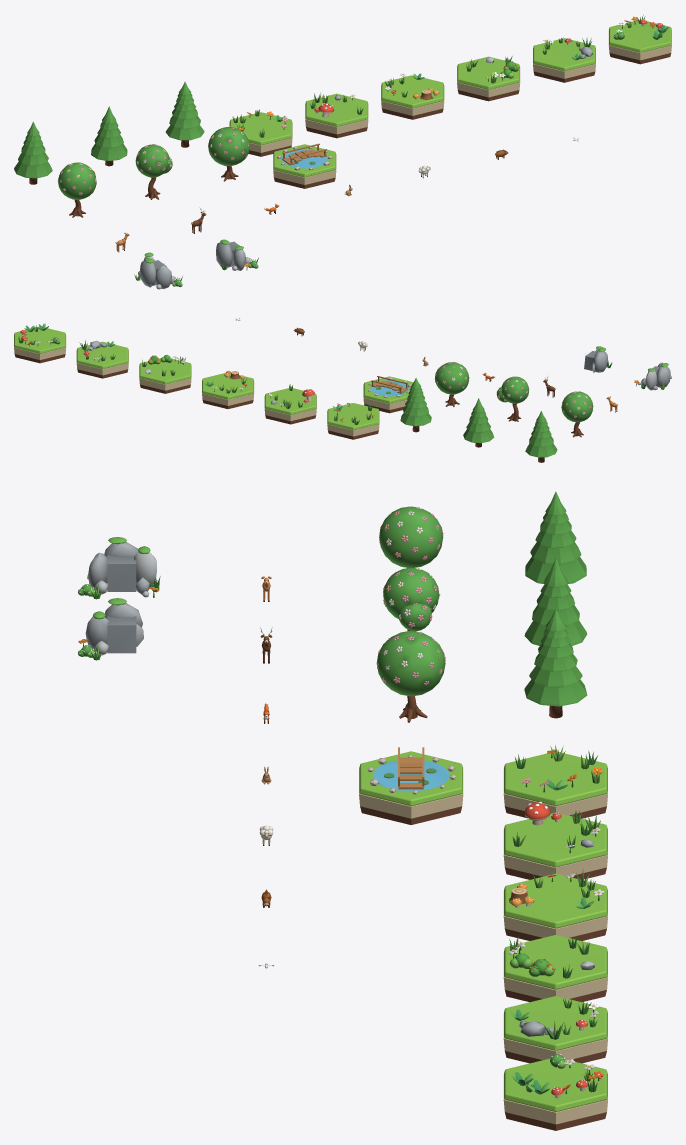
File: tree-reference.glb
The picture shows the model from 3 angles, top to bottom: view 1: azimuth 30°, elevation 25°; view 2: azimuth 150°, elevation 25°; view 3: azimuth 270°, elevation 25°; orthographic projection. The views are drawn at different scales.
Visible parts, largest first — view 1: TILE_grass2_grass, TILE_grass1_grass, TILE_grass4_grass, TILE_grass5_grass, TILE_grass3_grass, TILE_grass0_grass, P_canopy.007, P_canopy.005, R_canopy.005, P_canopy.006, R_canopy.003, PROP_falls_rock (+14 smaller); view 2: TILE_grass0_grass, TILE_grass2_grass, TILE_grass1_grass, TILE_grass3_grass, TILE_grass4_grass, TILE_grass5_grass, P_canopy.007, P_canopy.005, R_canopy.005, P_canopy.006, R_canopy.003, R_canopy.004 (+17 smaller); view 3: TILE_grass0_grass, TILE_grass1_grass, TILE_grass2_grass, TILE_grass4_grass, TILE_grass5_grass, P_canopy.007, TILE_grass3_grass, R_canopy.005, PROP_falls_rock, P_canopy.005, R_canopy.003, PROP_falls_open_rock (+16 smaller).
Part boxes in pixels (x1=…): TILE_grass2_grass: x1=381, y1=75, x2=444, y2=108; TILE_grass1_grass: x1=305, y1=93, x2=368, y2=126; TILE_grass4_grass: x1=533, y1=38, x2=595, y2=71; TILE_grass5_grass: x1=609, y1=19, x2=671, y2=52; TILE_grass3_grass: x1=457, y1=56, x2=519, y2=89; TILE_grass0_grass: x1=229, y1=112, x2=292, y2=145; P_canopy.007: x1=165, y1=81, x2=204, y2=140; P_canopy.005: x1=14, y1=121, x2=52, y2=178; R_canopy.005: x1=208, y1=127, x2=249, y2=165; P_canopy.006: x1=91, y1=106, x2=127, y2=160; R_canopy.003: x1=58, y1=162, x2=96, y2=199; PROP_falls_rock: x1=134, y1=252, x2=182, y2=289; TILE_grass0_grass: x1=327, y1=403, x2=379, y2=430; TILE_grass2_grass: x1=202, y1=373, x2=253, y2=399; TILE_grass1_grass: x1=264, y1=388, x2=316, y2=414; TILE_grass3_grass: x1=139, y1=358, x2=191, y2=384; TILE_grass4_grass: x1=76, y1=341, x2=128, y2=368; TILE_grass5_grass: x1=14, y1=326, x2=65, y2=353; P_canopy.007: x1=400, y1=377, x2=431, y2=426; P_canopy.005: x1=525, y1=411, x2=557, y2=457; R_canopy.005: x1=435, y1=362, x2=469, y2=394; P_canopy.006: x1=463, y1=398, x2=494, y2=443; R_canopy.003: x1=561, y1=391, x2=593, y2=422; R_canopy.004: x1=496, y1=376, x2=529, y2=403; TILE_grass0_grass: x1=504, y1=751, x2=607, y2=806; TILE_grass1_grass: x1=504, y1=812, x2=607, y2=867; TILE_grass2_grass: x1=504, y1=873, x2=607, y2=928; TILE_grass4_grass: x1=504, y1=996, x2=607, y2=1050; TILE_grass5_grass: x1=504, y1=1058, x2=607, y2=1111; P_canopy.007: x1=524, y1=609, x2=587, y2=706; TILE_grass3_grass: x1=504, y1=935, x2=607, y2=989; R_canopy.005: x1=376, y1=630, x2=445, y2=696; PROP_falls_rock: x1=78, y1=537, x2=160, y2=599; P_canopy.005: x1=525, y1=491, x2=586, y2=583; R_canopy.003: x1=379, y1=506, x2=443, y2=567; PROP_falls_open_rock: x1=78, y1=598, x2=143, y2=660.
Bounding box in the file's own units: 31.46 × 3.61 × 13.19.
